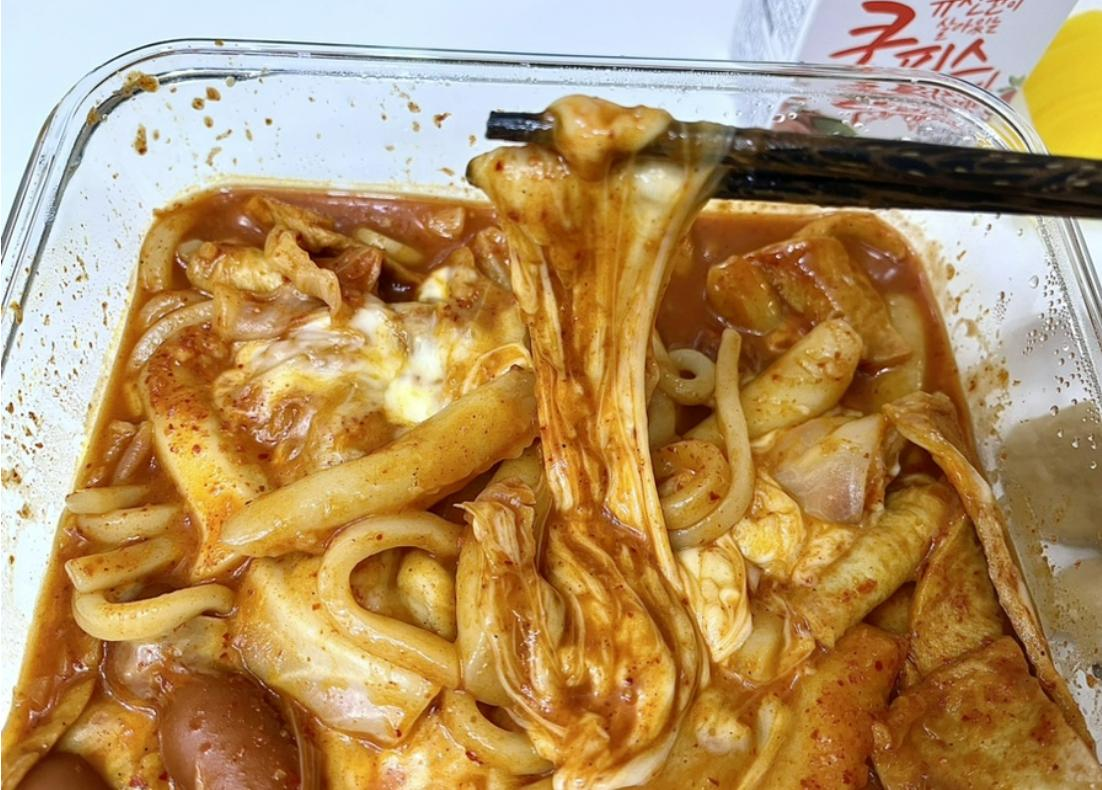Lunch Box: (0, 42, 1101, 789)
